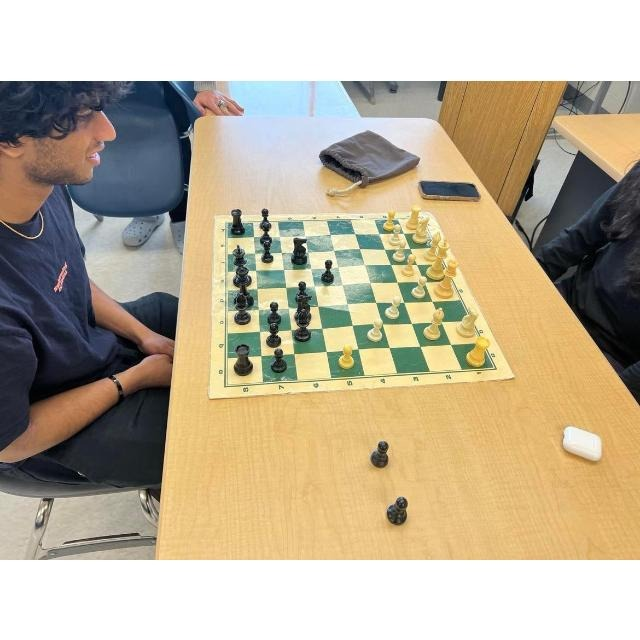black-bishop: (293, 307, 311, 341), (233, 291, 251, 324)
black-king: (232, 243, 252, 287)
black-knight: (294, 294, 313, 322), (289, 236, 308, 264)
black-pawn: (270, 346, 288, 374), (319, 258, 337, 282), (266, 322, 282, 348), (267, 300, 283, 324), (259, 239, 274, 262), (259, 221, 274, 243), (296, 280, 308, 302), (260, 207, 272, 229)
black-queen: (234, 265, 254, 307)
black-rook: (232, 341, 253, 374), (230, 208, 245, 234)
white-bishop: (423, 306, 446, 340), (423, 229, 443, 260)
white-king: (426, 237, 450, 279)
white-knight: (455, 305, 479, 337), (412, 215, 429, 243)
white-pawn: (399, 250, 420, 276), (367, 316, 387, 341), (385, 295, 405, 319), (409, 274, 429, 298), (392, 237, 411, 261), (388, 220, 404, 245), (382, 207, 398, 230), (339, 344, 354, 368)
white-queen: (432, 256, 459, 298)
white-rook: (465, 336, 490, 366), (406, 203, 422, 228)
